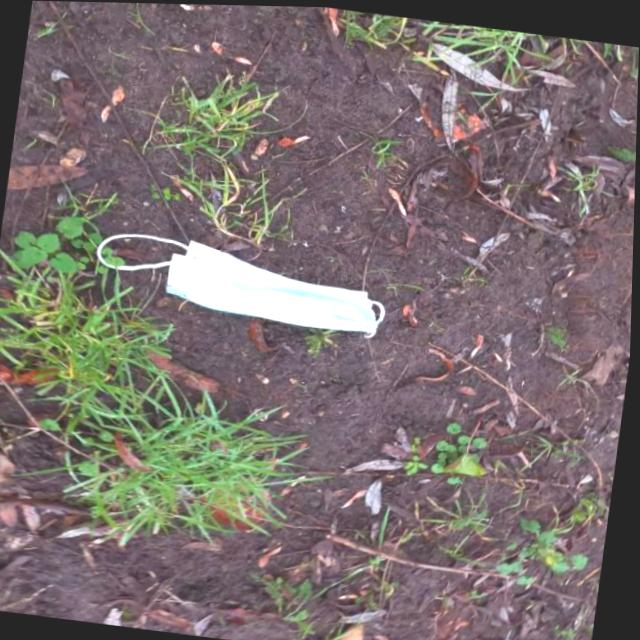Mask: (94, 220, 395, 339)
